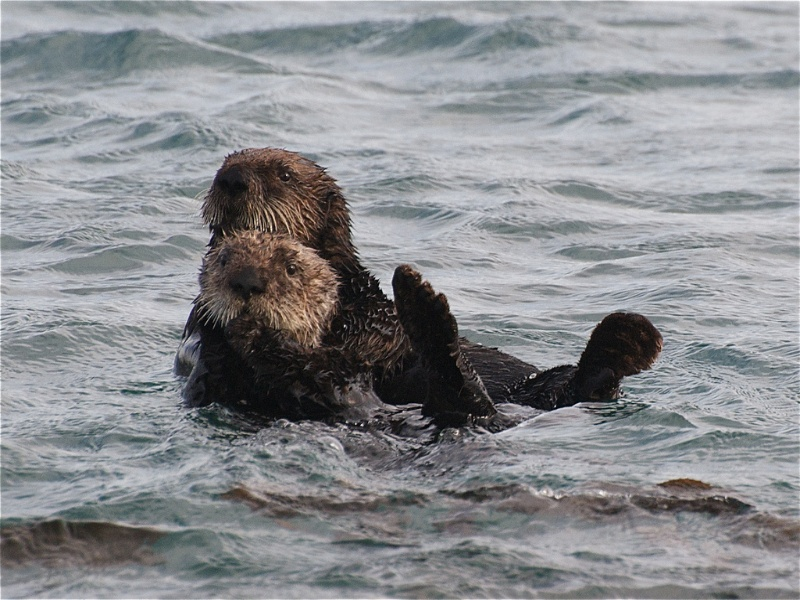minkish: (173, 143, 676, 420), (164, 230, 497, 451)
